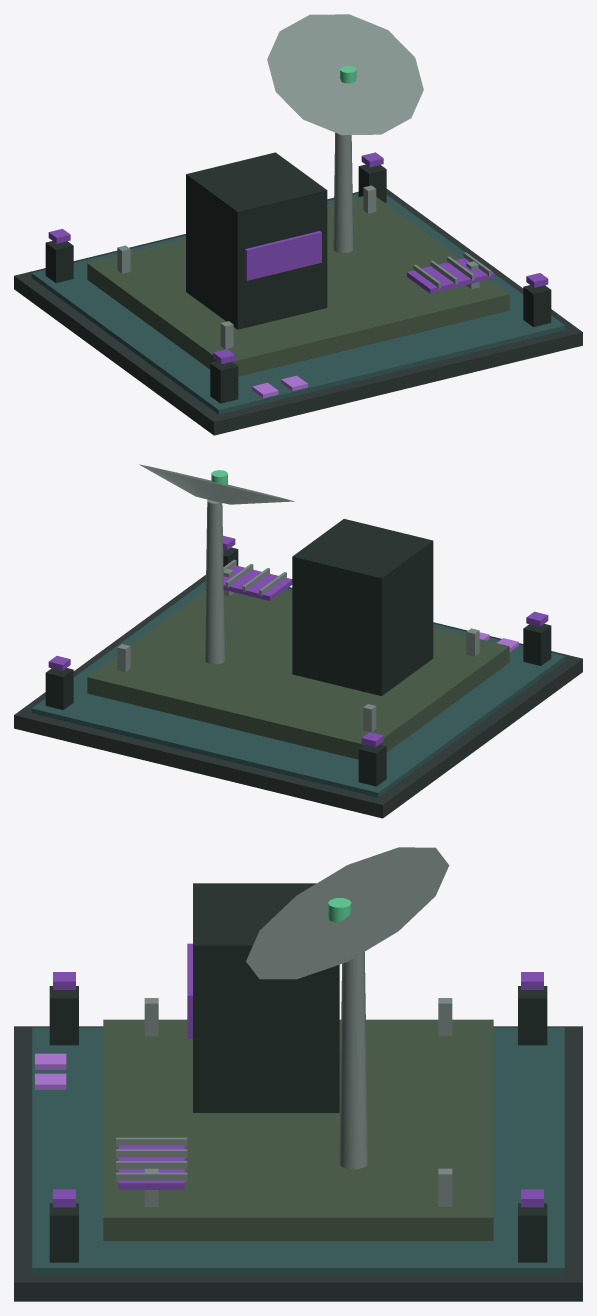
The model's file is signal_l02.glb.
The picture shows the model from 3 angles, top to bottom: view 1: azimuth 30°, elevation 25°; view 2: azimuth 150°, elevation 25°; view 3: azimuth 270°, elevation 25°; orthographic projection. The views are drawn at different scales.
Parts seen in each view (by area): view 1: signal_l02; view 2: signal_l02; view 3: signal_l02.
Part boxes in pixels (left/top/right/bottom): signal_l02: left=14, top=14, right=582, bottom=435; signal_l02: left=14, top=464, right=582, bottom=818; signal_l02: left=14, top=847, right=582, bottom=1301.
Bounding box in the file's own units: 6.6 × 4.24 × 6.2.
